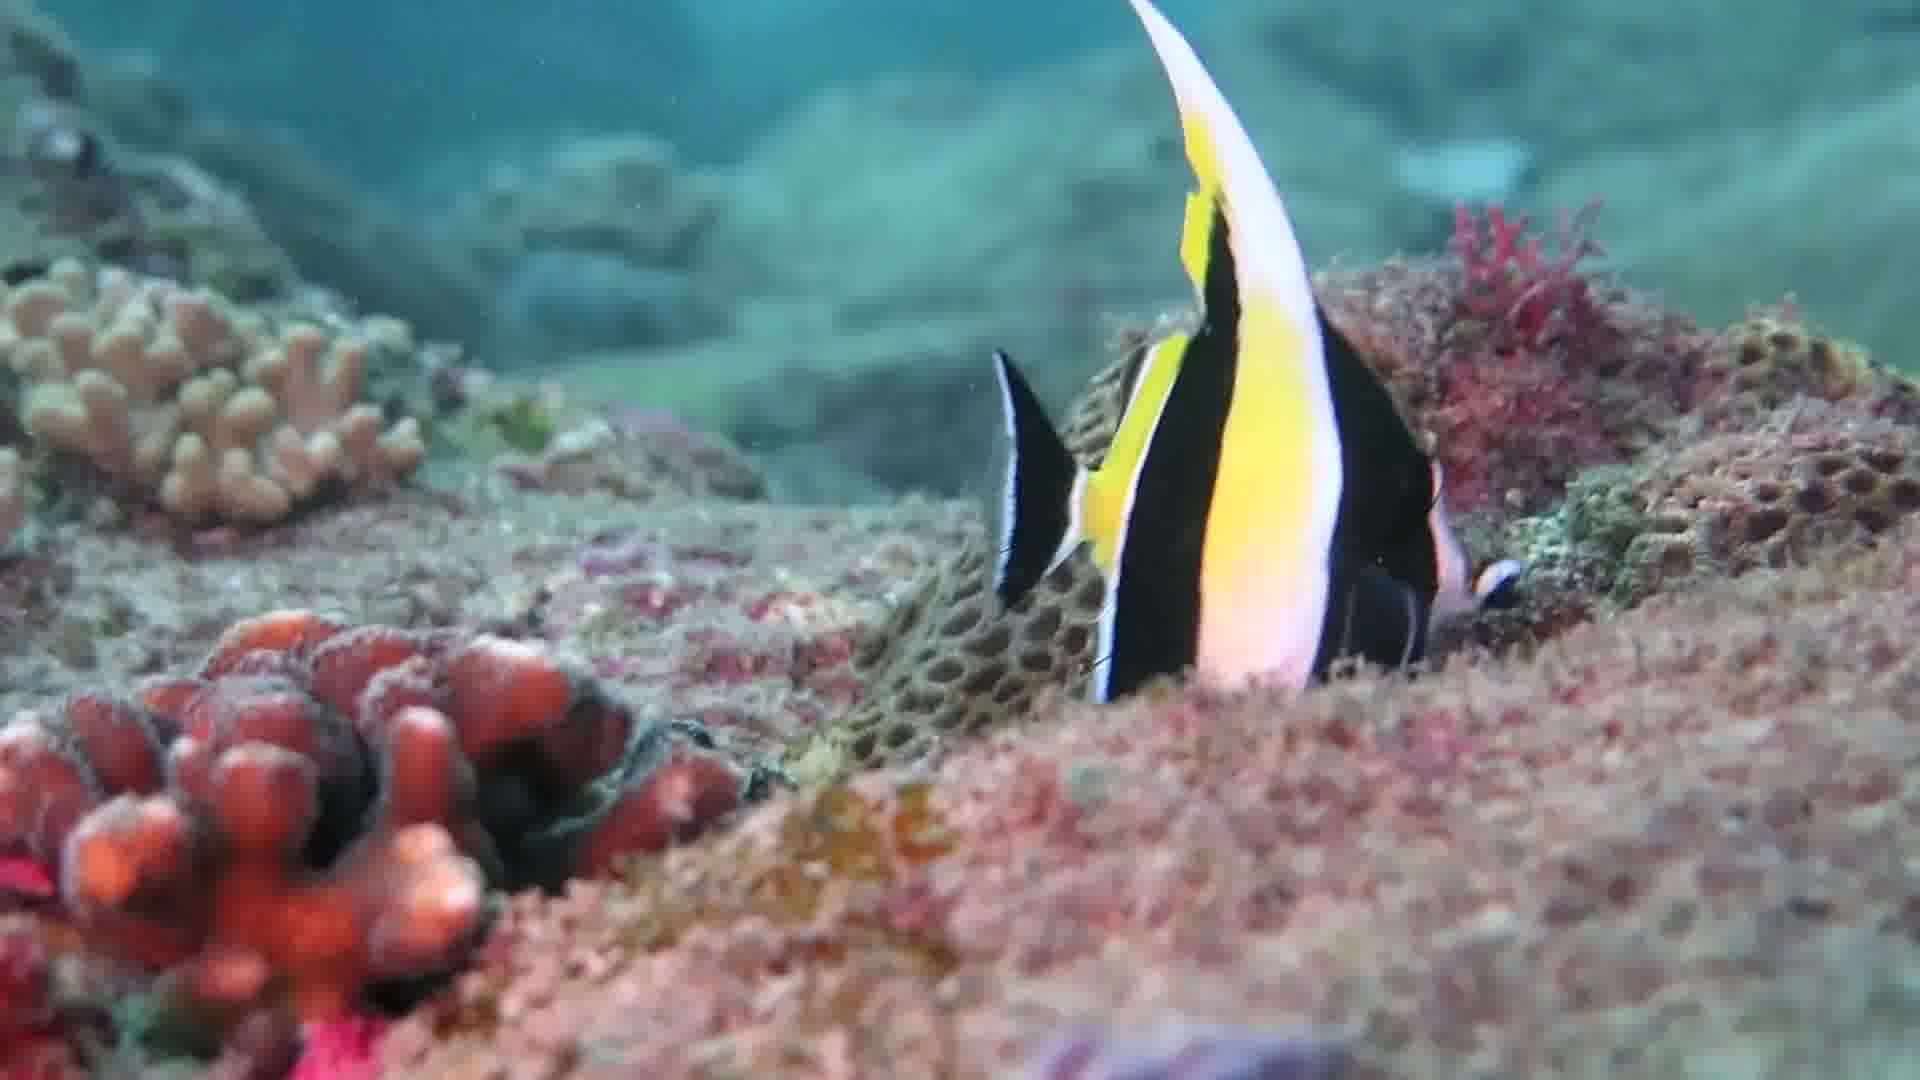Zanclus cornutus: (986, 247, 1503, 752)
